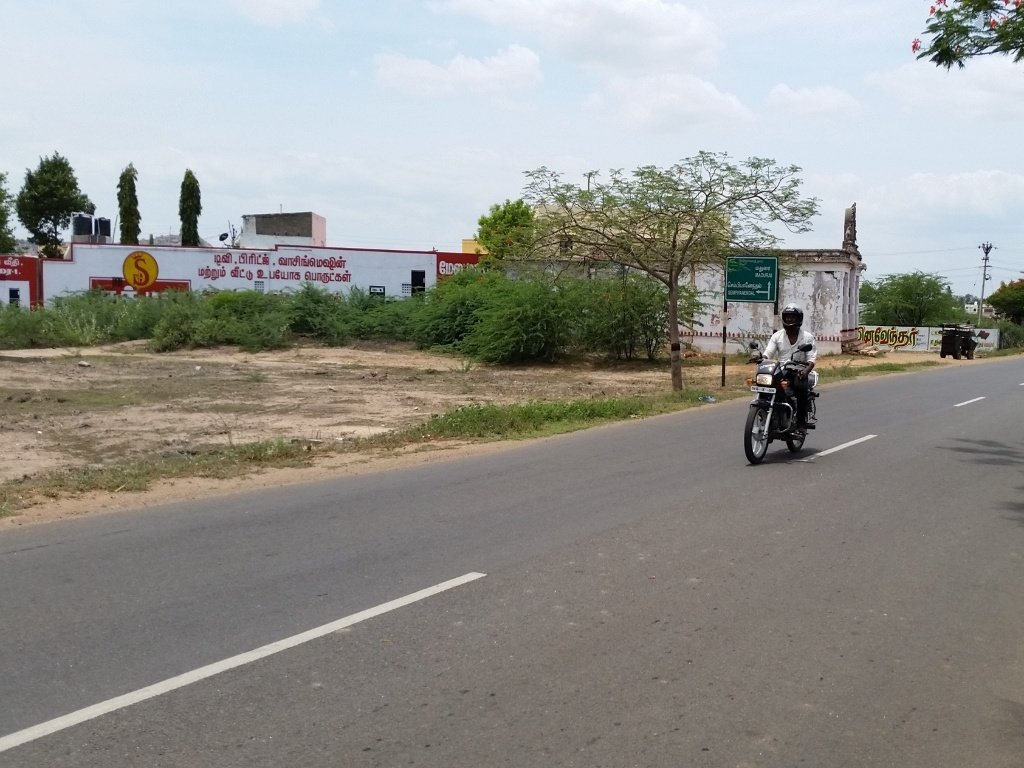biker: (725, 270, 837, 476)
helmet: (770, 292, 813, 347)
